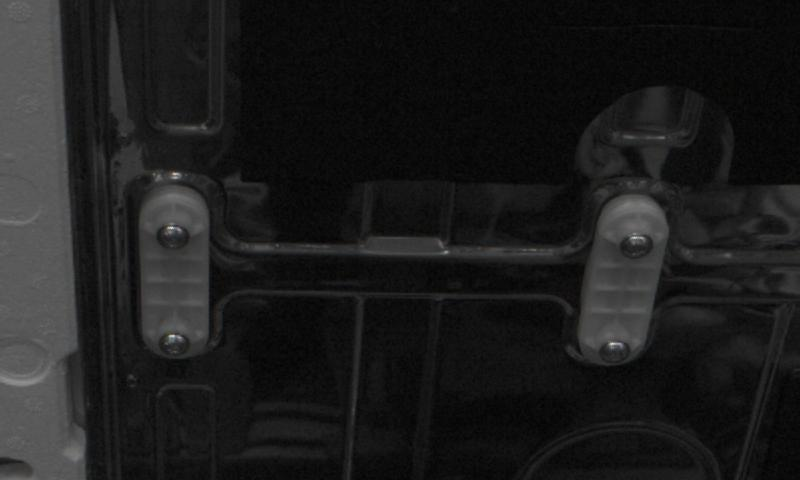vida-ok: (615, 229, 659, 269), (153, 216, 192, 255), (596, 331, 635, 370), (157, 326, 195, 361)
